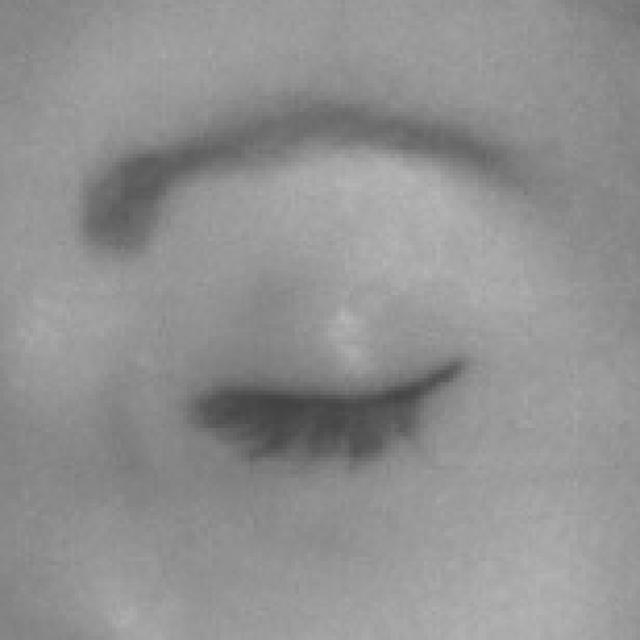Eyeclosed: (190, 266, 466, 536)
